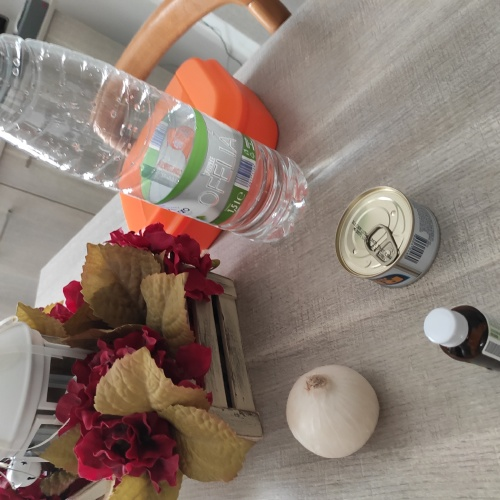cipolla: (279, 361, 387, 466)
tonno: (330, 182, 446, 292)
